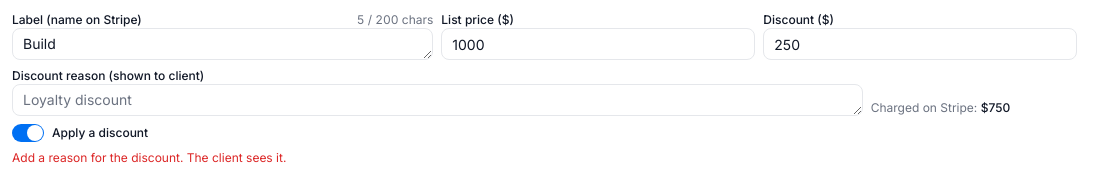
it: MoneyFields discount inputs (RSL-33) › restores the list price as the charged amount when the discount is removed
Step 1. Click the switch → (28, 133), box [12,124,44,142]
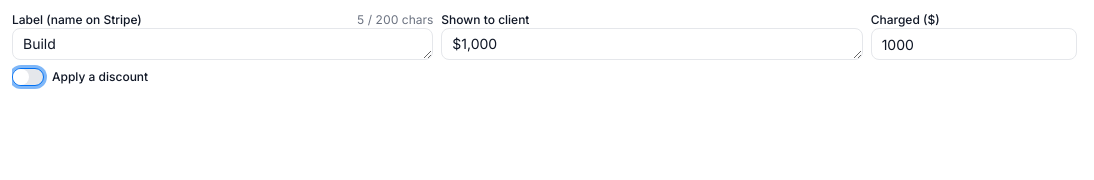
Check: the text box showing "$1,000" is shown, box [441,28,863,60]
